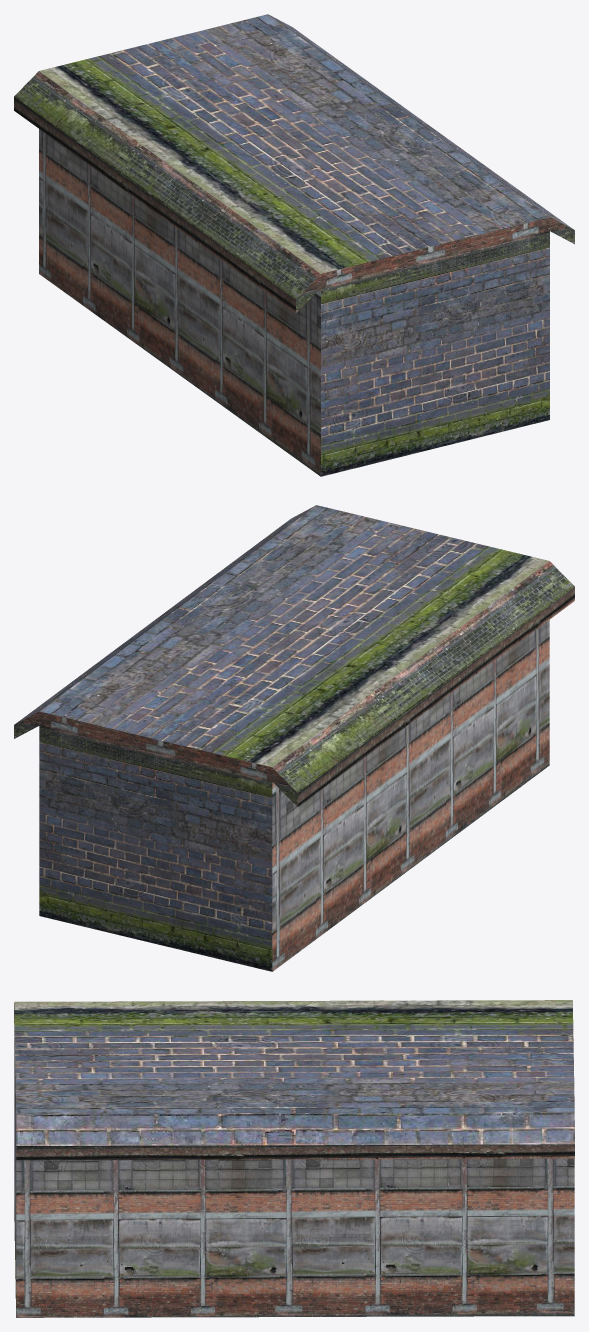
File: House.fbx
3 renders of one model, top to bottom at view 1: azimuth 30°, elevation 25°; view 2: azimuth 150°, elevation 25°; view 3: azimuth 270°, elevation 25°, orthographic.
Parts seen in each view (by area): view 1: polySurface5; view 2: polySurface5; view 3: polySurface5.
Boxes of the visible parts, bbox=[...] form: polySurface5: bbox=[14, 14, 574, 476]; polySurface5: bbox=[14, 505, 574, 971]; polySurface5: bbox=[14, 1000, 574, 1317].
Size of the model in its own units: 29.38 by 20.07 by 50.16.
Materials: 1 (1 with a texture image).
